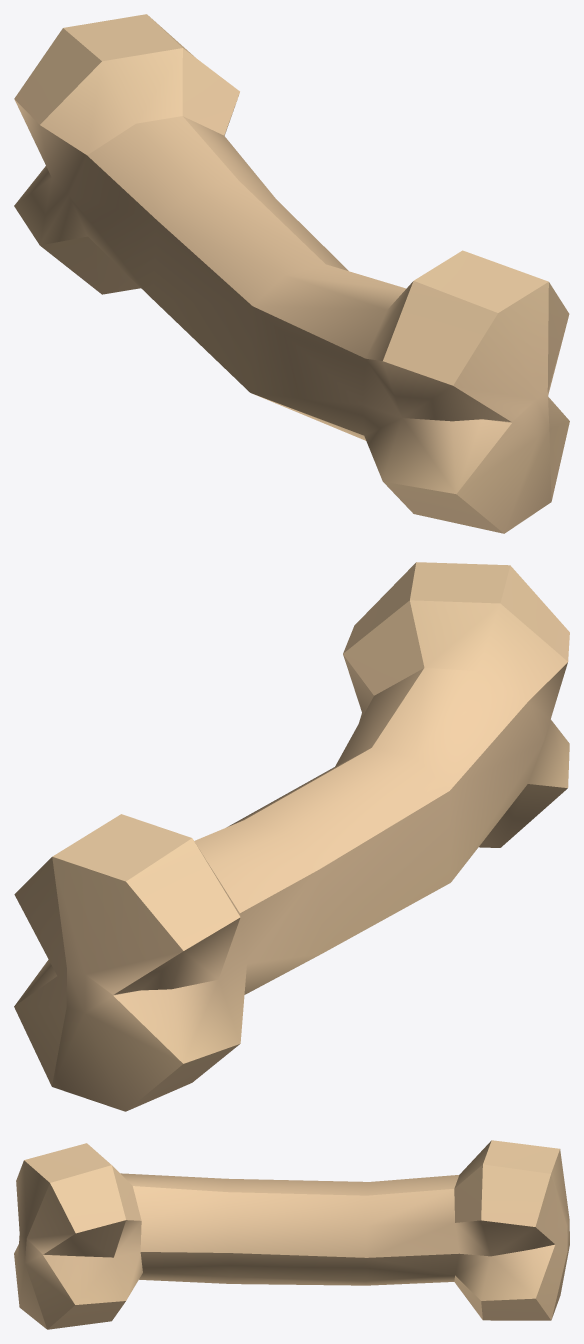
Rendered from Bones_4.obj.
3 views of the same model, one above another, from view 1: azimuth 30°, elevation 25°; view 2: azimuth 150°, elevation 25°; view 3: azimuth 270°, elevation 25° (orthographic). The views are drawn at different scales.
Visible parts, largest first — view 1: Bones_4; view 2: Bones_4; view 3: Bones_4.
Part boxes in pixels (x1,y1,x2,y2): Bones_4: (14, 14, 569, 533); Bones_4: (14, 562, 569, 1111); Bones_4: (14, 1140, 569, 1329).
Bounding box in the file's own units: 0.061 × 0.0646 × 0.2083.
